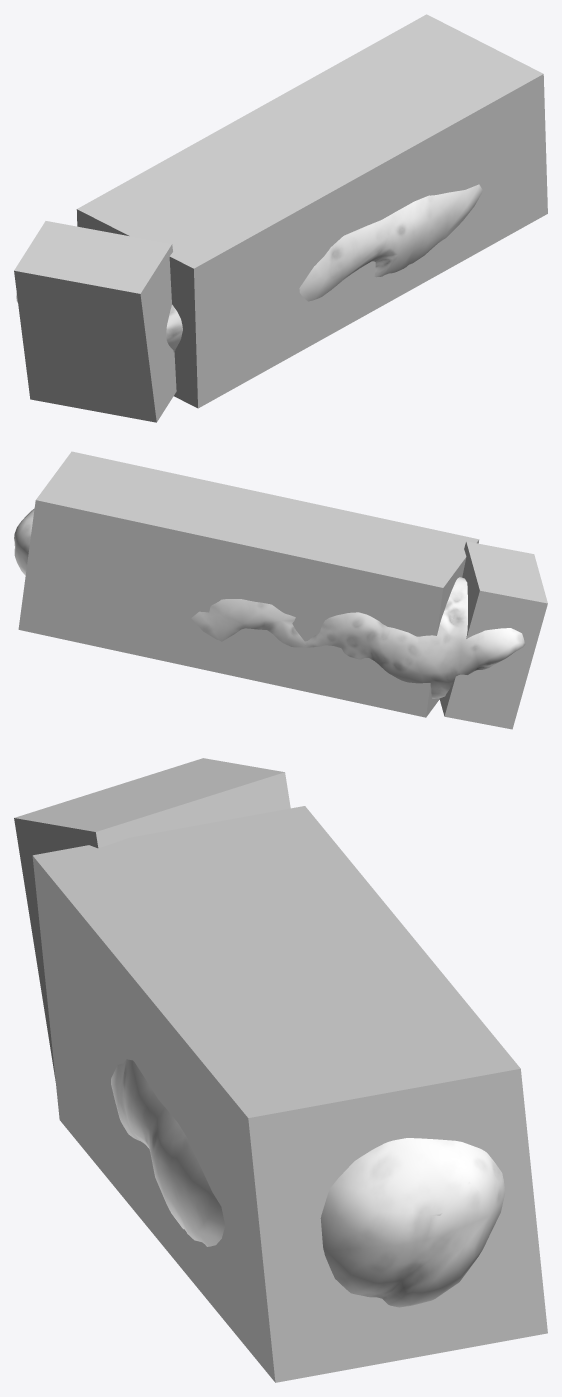
The model's file is Coral_10.glb.
The picture shows the model from 3 angles, top to bottom: view 1: azimuth 30°, elevation 25°; view 2: azimuth 150°, elevation 25°; view 3: azimuth 270°, elevation 25°; orthographic projection. The views are drawn at different scales.
Parts seen in each view (by area): view 1: Cube.027, Cube.028, A03612_Koralle10.001; view 2: Cube.027, A03612_Koralle10.001, Cube.028; view 3: Cube.027, A03612_Koralle10.001, Cube.028.
Boxes of the visible parts, x1,y1,x2,y2 form: Cube.027: [76, 14, 547, 408]; Cube.028: [14, 221, 176, 422]; A03612_Koralle10.001: [16, 184, 482, 352]; Cube.027: [18, 451, 479, 717]; A03612_Koralle10.001: [14, 508, 525, 698]; Cube.028: [439, 541, 547, 729]; Cube.027: [32, 806, 547, 1382]; A03612_Koralle10.001: [111, 1059, 505, 1307]; Cube.028: [14, 758, 290, 1080].
Bounding box in the file's own units: 0.467 × 0.1686 × 0.2263.
Materials: 1 (1 with a texture image).
